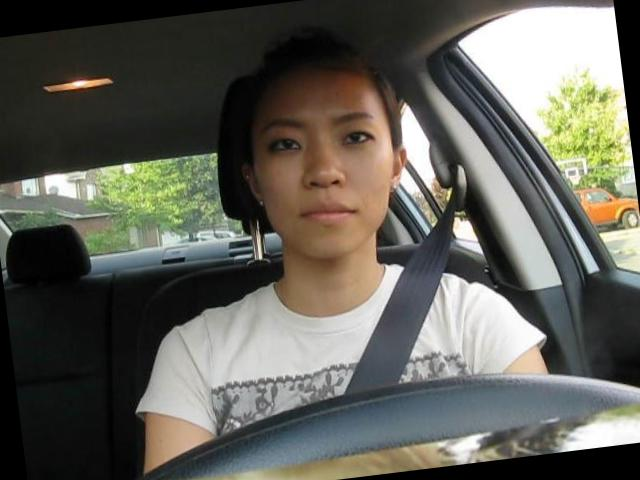eye_open: (262, 130, 308, 162), (336, 123, 378, 152)
face: (250, 84, 404, 266)
